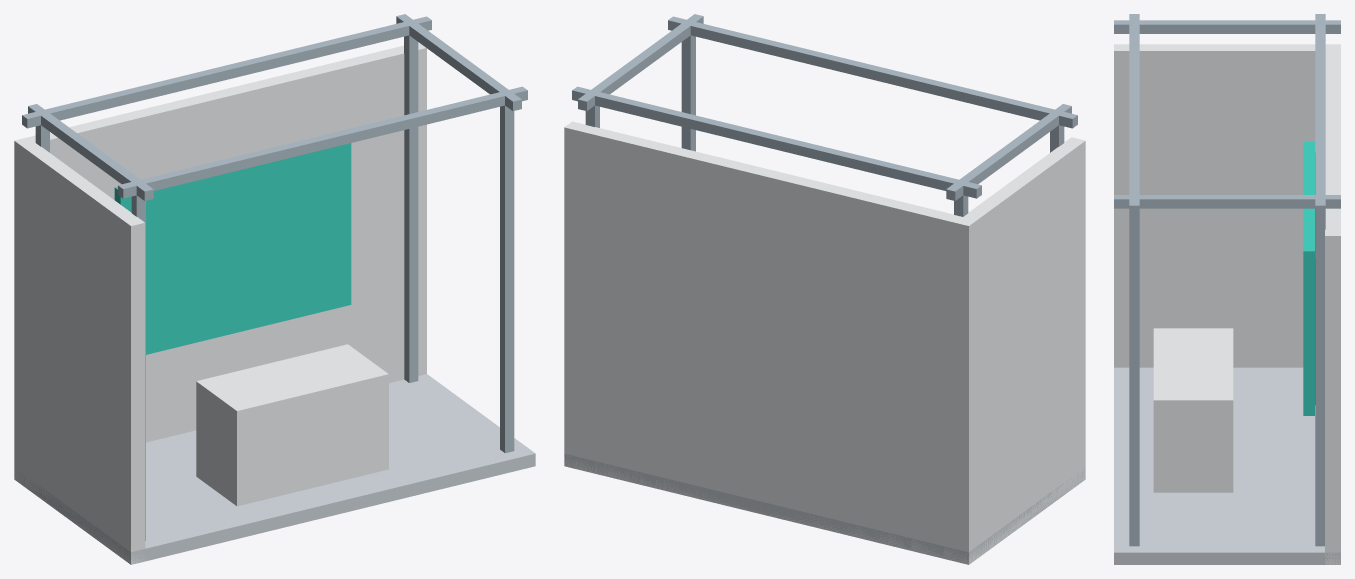
3 renders of one model, left to right at view 1: azimuth 30°, elevation 25°; view 2: azimuth 150°, elevation 25°; view 3: azimuth 270°, elevation 25°, orthographic. The views are drawn at different scales.
Visible parts, largest first — view 1: Exhibition Booth Concept; view 2: Exhibition Booth Concept; view 3: Exhibition Booth Concept.
Part boxes in pixels (box(x1,y1,x2,y2)): Exhibition Booth Concept: box(14, 14, 535, 564); Exhibition Booth Concept: box(564, 14, 1085, 564); Exhibition Booth Concept: box(1114, 14, 1340, 564).
Size of the model in its own units: 4 by 3.49 by 2.
